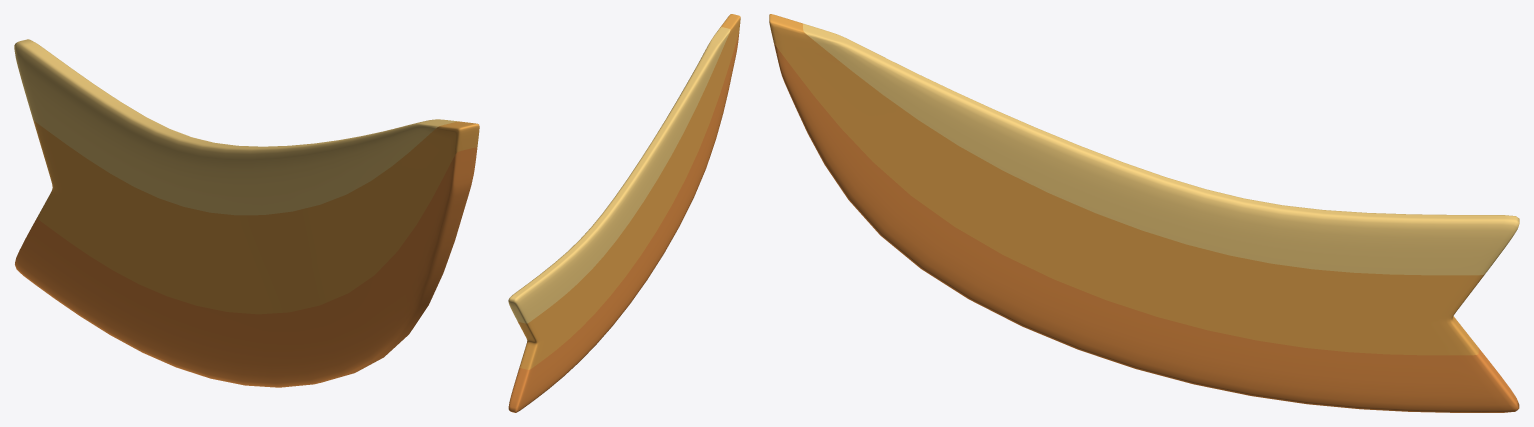
File: starboost.fbx
3 views of the same model, side by side, from view 1: azimuth 30°, elevation 25°; view 2: azimuth 150°, elevation 25°; view 3: azimuth 270°, elevation 25° (orthographic). The views are drawn at different scales.
Visible parts, largest first — view 1: Cube.007, Cube.008, Cube.006; view 2: Cube.007, Cube.006, Cube.008; view 3: Cube.007, Cube.008, Cube.006.
Boxes of the visible parts, x1,y1,x2,y2 form: Cube.007: (33,120,479,314); Cube.008: (15,147,477,387); Cube.006: (14,39,458,215); Cube.007: (517,14,740,369); Cube.006: (508,27,730,323); Cube.008: (508,32,739,412); Cube.007: (769,14,1484,355); Cube.008: (774,43,1519,412); Cube.006: (803,23,1519,275).
Size of the model in its own units: 11.97 by 241 by 417.
